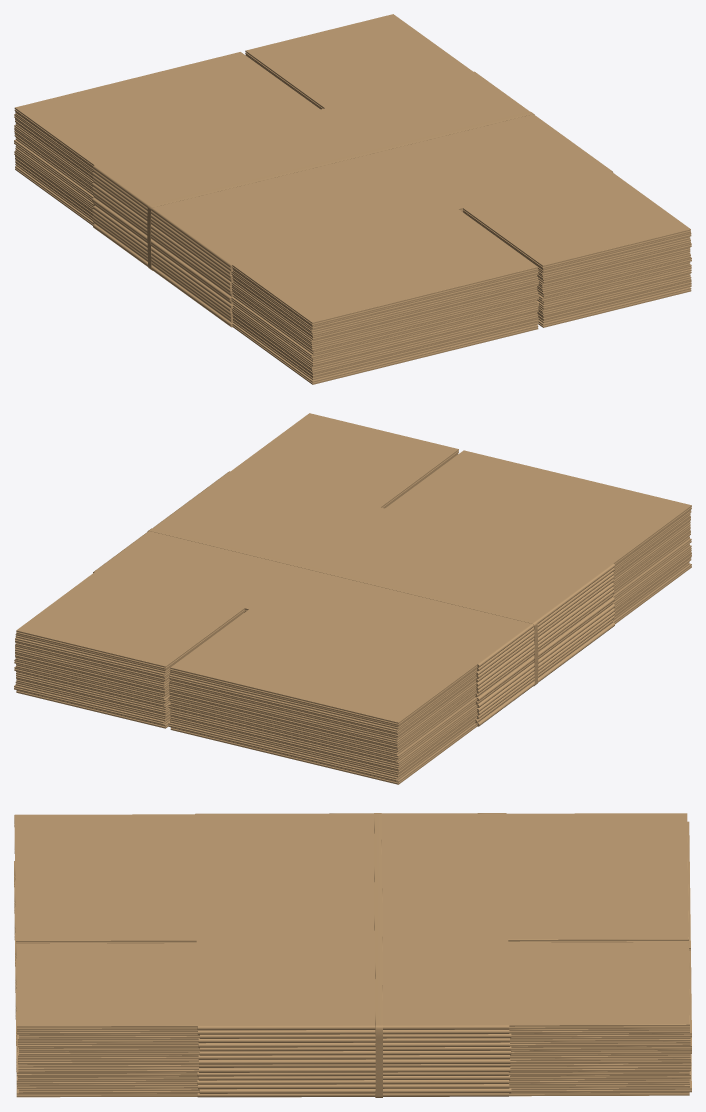
Rendered from box_cardboard_folded_brown_a03.glb.
3 renders of one model, top to bottom at view 1: azimuth 30°, elevation 25°; view 2: azimuth 150°, elevation 25°; view 3: azimuth 270°, elevation 25°, orthographic. The views are drawn at different scales.
Bounding box in the file's own units: 0.6682 × 0.104 × 0.8884.
